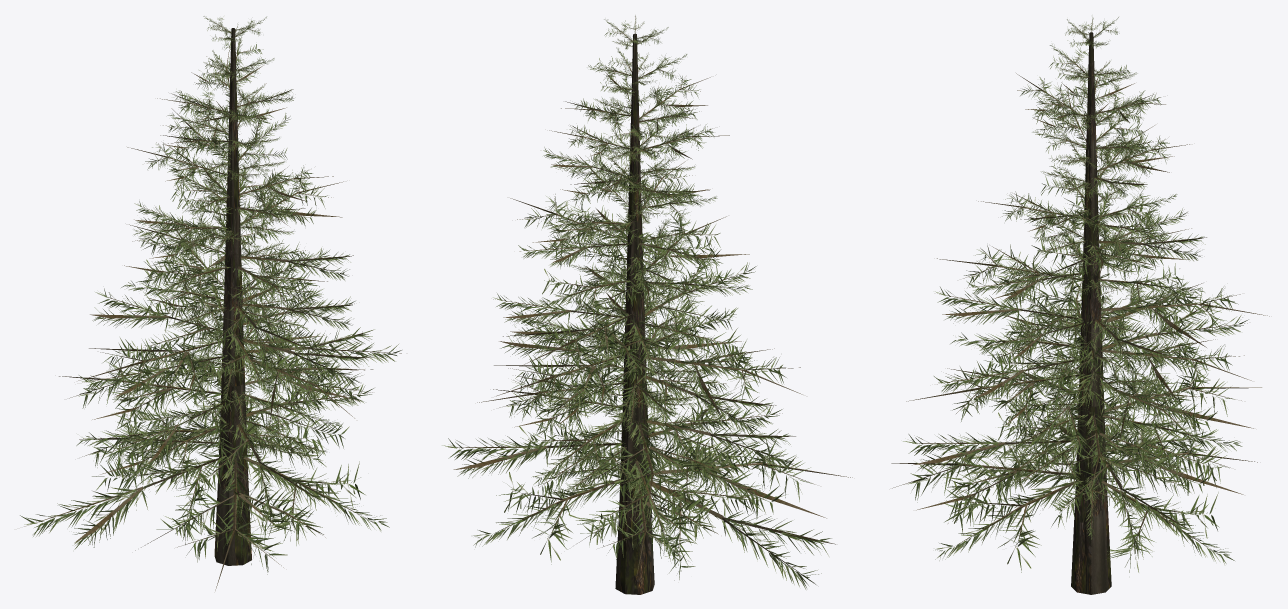
The model's file is fir_c.glb.
3 views of the same model, side by side, from view 1: azimuth 30°, elevation 25°; view 2: azimuth 150°, elevation 25°; view 3: azimuth 270°, elevation 25° (orthographic). The views are drawn at different scales.
Visible parts, largest first — view 1: fir_c; view 2: fir_c; view 3: fir_c.
Boxes of the visible parts, box(x1,y1,x2,y2) form: fir_c: box(20, 16, 401, 590); fir_c: box(442, 15, 852, 594); fir_c: box(891, 17, 1269, 594).
Bounding box in the file's own units: 6.49 × 9.15 × 5.74.
2 materials, 2 textured.
